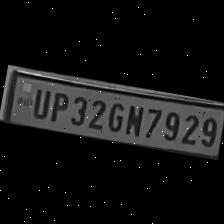2: (176, 110, 200, 146), (84, 94, 107, 130)
3: (64, 90, 89, 127)
7: (138, 104, 162, 140)
9: (156, 106, 182, 142), (196, 114, 218, 148)
G: (103, 98, 127, 134)
N: (120, 100, 144, 137)
P: (45, 87, 70, 124)
U: (25, 84, 50, 120)
